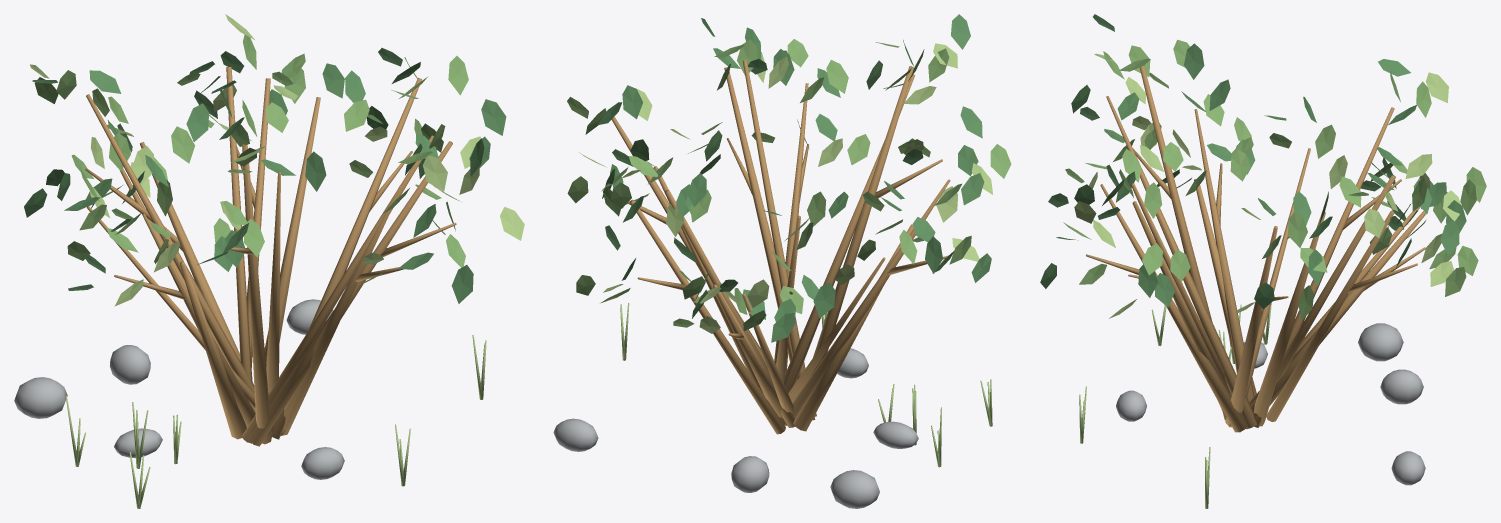
The model's file is forest_shrub_c.glb.
3 renders of one model, left to right at view 1: azimuth 30°, elevation 25°; view 2: azimuth 150°, elevation 25°; view 3: azimuth 270°, elevation 25°, orthographic. The views are drawn at different scales.
Parts seen in each view (by area): view 1: forest_shrub_c_stem_10, forest_shrub_c_stem_14, forest_shrub_c_stem_0, forest_shrub_c_stem_12, forest_shrub_c_stem_13, forest_shrub_c_stem_6, forest_shrub_c_stem_9, forest_shrub_c_stem_3, forest_shrub_c_stem_1, forest_shrub_c_stem_11, forest_shrub_ground_rock_4, forest_shrub_c_stem_4 (+14 smaller); view 2: forest_shrub_c_stem_10, forest_shrub_c_stem_11, forest_shrub_c_stem_8, forest_shrub_c_stem_2, forest_shrub_c_stem_14, forest_shrub_c_stem_13, forest_shrub_c_stem_9, forest_shrub_ground_rock_4, forest_shrub_c_stem_4, forest_shrub_c_stem_12, forest_shrub_c_stem_3, forest_shrub_ground_rock_1 (+9 smaller); view 3: forest_shrub_c_stem_11, forest_shrub_c_stem_8, forest_shrub_c_stem_12, forest_shrub_c_stem_2, forest_shrub_c_stem_1, forest_shrub_c_stem_10, forest_shrub_c_stem_3, forest_shrub_c_stem_0, forest_shrub_c_stem_4, forest_shrub_c_stem_6, forest_shrub_ground_rock_4, forest_shrub_c_stem_14 (+8 smaller).
Part boxes in pixels (<box>): forest_shrub_c_stem_10: <box>242,143,271,444</box>; forest_shrub_c_stem_14: <box>248,141,452,446</box>; forest_shrub_c_stem_0: <box>271,77,421,439</box>; forest_shrub_c_stem_12: <box>281,185,401,435</box>; forest_shrub_c_stem_13: <box>242,135,433,443</box>; forest_shrub_c_stem_6: <box>86,94,254,393</box>; forest_shrub_c_stem_9: <box>180,261,246,439</box>; forest_shrub_c_stem_3: <box>226,67,252,382</box>; forest_shrub_c_stem_1: <box>264,97,320,367</box>; forest_shrub_c_stem_11: <box>266,171,280,393</box>; forest_shrub_ground_rock_4: <box>14,377,67,418</box>; forest_shrub_c_stem_4: <box>140,142,254,385</box>; forest_shrub_c_stem_10: <box>811,66,913,375</box>; forest_shrub_c_stem_11: <box>784,74,914,393</box>; forest_shrub_c_stem_8: <box>785,179,950,425</box>; forest_shrub_c_stem_2: <box>630,199,785,434</box>; forest_shrub_c_stem_14: <box>724,67,816,416</box>; forest_shrub_c_stem_13: <box>743,60,815,420</box>; forest_shrub_c_stem_9: <box>793,224,913,431</box>; forest_shrub_ground_rock_4: <box>830,470,879,508</box>; forest_shrub_c_stem_4: <box>713,284,786,425</box>; forest_shrub_c_stem_12: <box>774,83,808,373</box>; forest_shrub_c_stem_3: <box>665,190,794,427</box>; forest_shrub_ground_rock_1: <box>553,418,598,451</box>; forest_shrub_c_stem_11: <box>1106,96,1257,429</box>; forest_shrub_c_stem_8: <box>1194,109,1254,402</box>; forest_shrub_c_stem_12: <box>1100,184,1247,432</box>; forest_shrub_c_stem_2: <box>1266,210,1394,421</box>; forest_shrub_c_stem_1: <box>1254,212,1325,426</box>; forest_shrub_c_stem_10: <box>1139,66,1226,420</box>; forest_shrub_c_stem_3: <box>1276,175,1395,383</box>; forest_shrub_c_stem_0: <box>1225,226,1277,427</box>; forest_shrub_c_stem_4: <box>1250,211,1426,411</box>; forest_shrub_c_stem_6: <box>1253,107,1394,427</box>; forest_shrub_ground_rock_4: <box>1358,323,1403,361</box>; forest_shrub_c_stem_14: <box>1132,201,1228,410</box>.
Bounding box in the file's own units: 1.05 × 0.9485 × 1.05.
